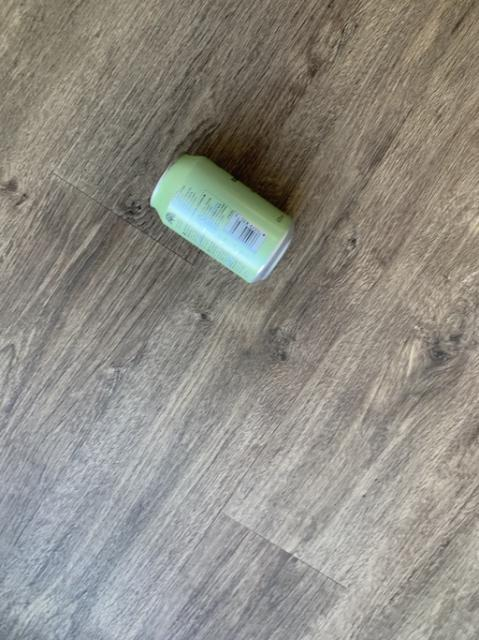metal: (150, 154, 292, 281)
